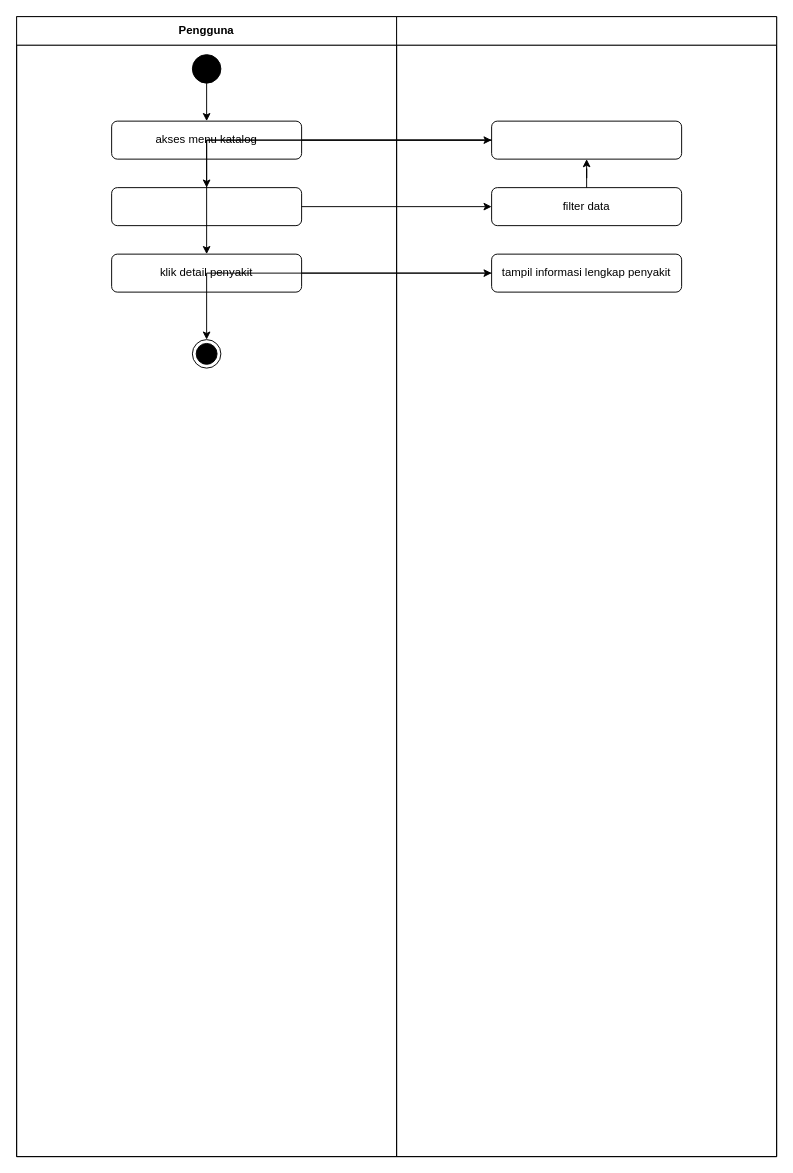
The diagram is 793 pixels wide and 1173 high, and some of its shapes have lost their labels. Here are the shapes that lost their labels. From the top down, the box of each, then its label:
(491, 120, 682, 159): tampil daftar penyakit & gejala
(111, 187, 302, 226): masukkan kata kunci pencarian
(396, 16, 777, 1157): Sistem
